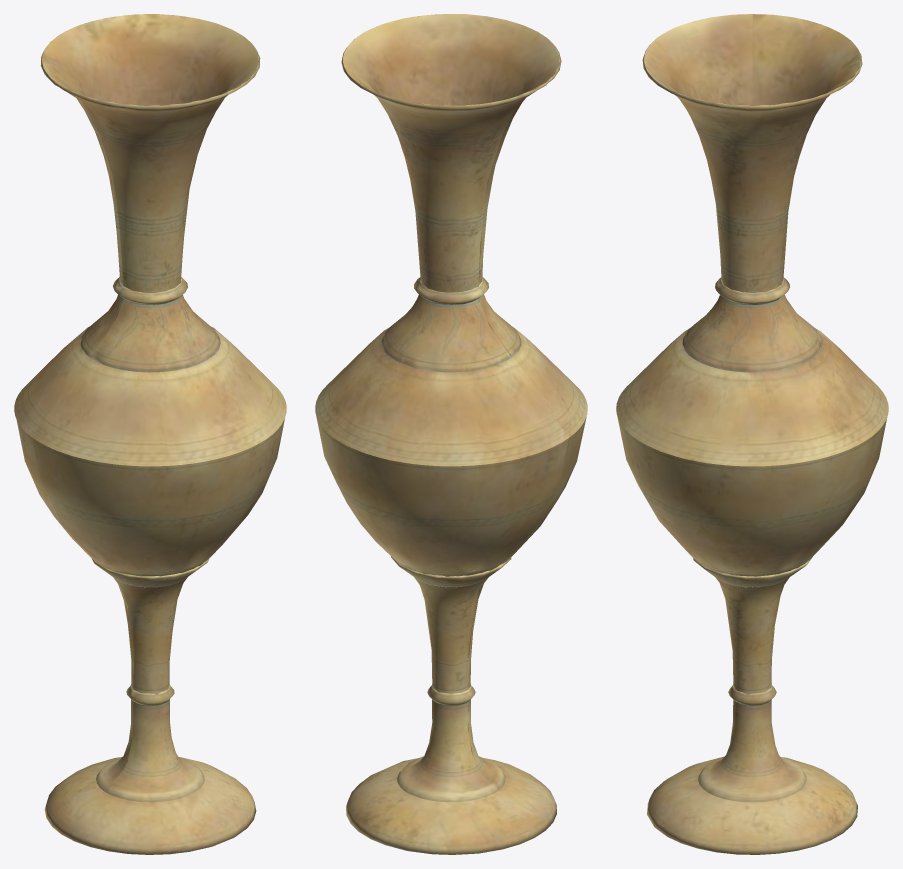
The model's file is vase_brass.glb.
3 views of the same model, side by side, from view 1: azimuth 30°, elevation 25°; view 2: azimuth 150°, elevation 25°; view 3: azimuth 270°, elevation 25° (orthographic).
Visible parts, largest first — view 1: brass_vase_01; view 2: brass_vase_01; view 3: brass_vase_01.
Part boxes in pixels (left/top/right/bottom): brass_vase_01: left=14, top=14, right=286, bottom=854; brass_vase_01: left=315, top=14, right=587, bottom=854; brass_vase_01: left=616, top=14, right=888, bottom=854.
Bounding box in the file's own units: 0.1713 × 0.52 × 0.1711.
Materials: 1 (1 with a texture image).
